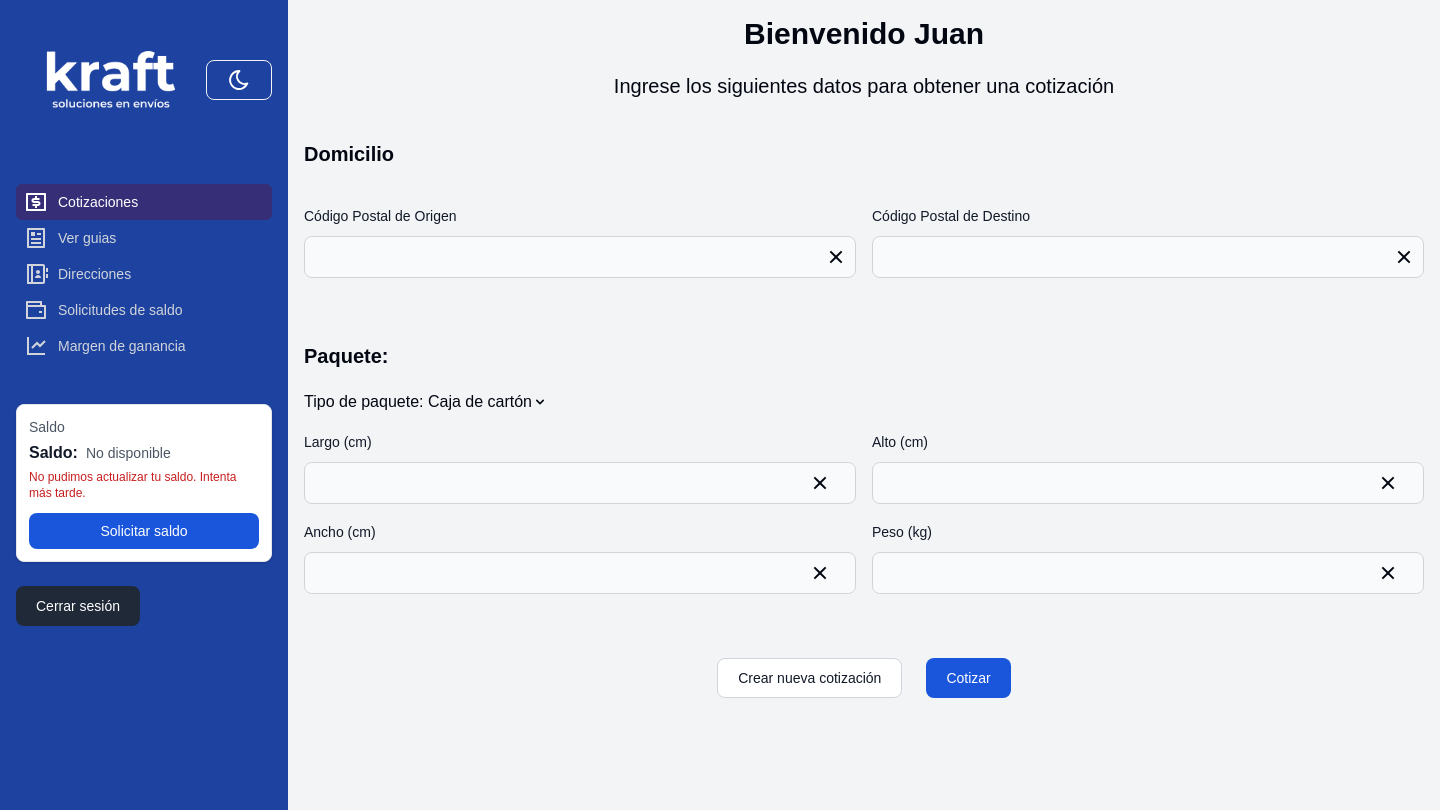
Test case: Dashboard balance surface › keeps navigation usable when balance fails
Expected: the text "No disponible" is shown, [86, 443, 171, 463]
Click the button "Ver guias" at (144, 238), box [16, 220, 272, 256]
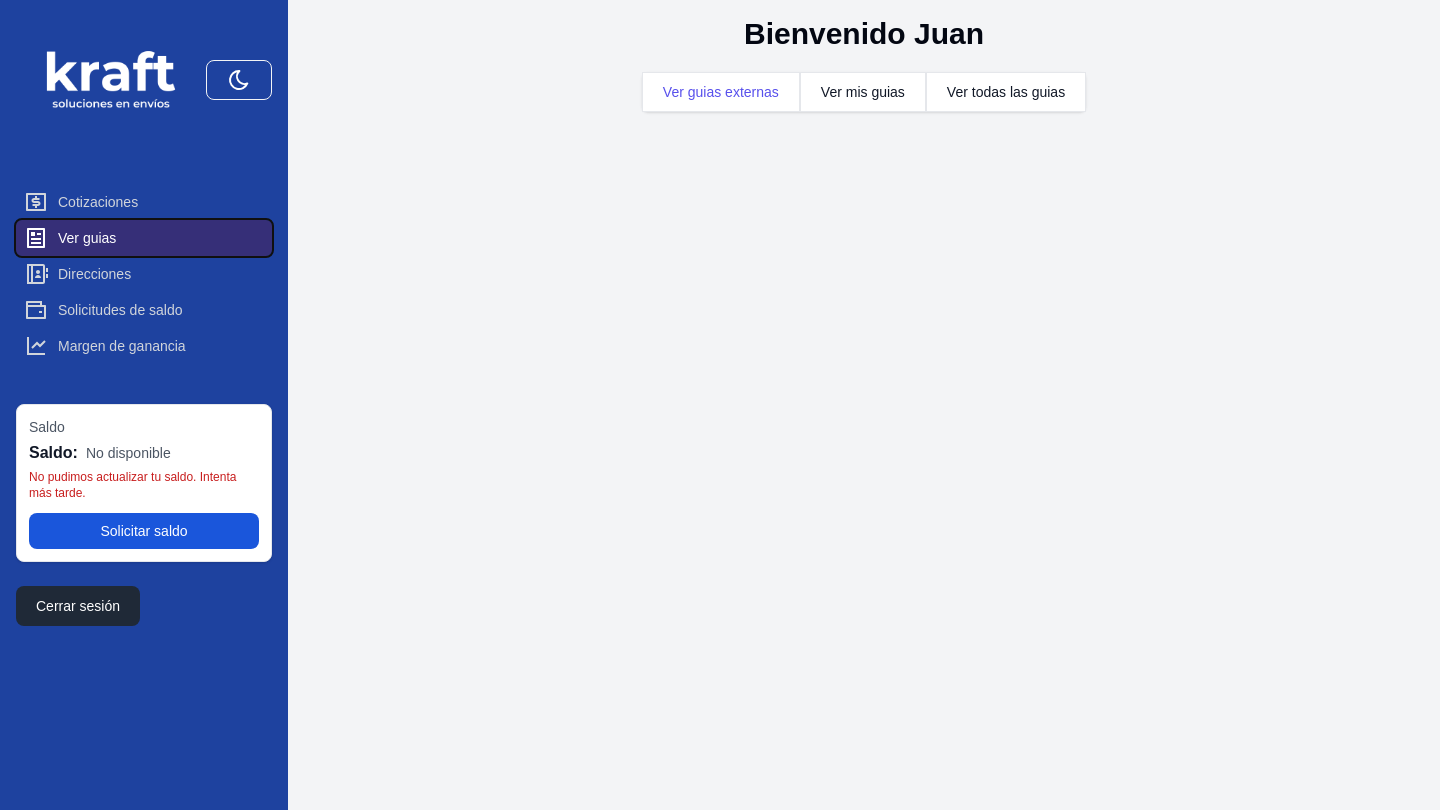
Now the button "Ver guias externas" is shown, box [642, 72, 800, 112]
